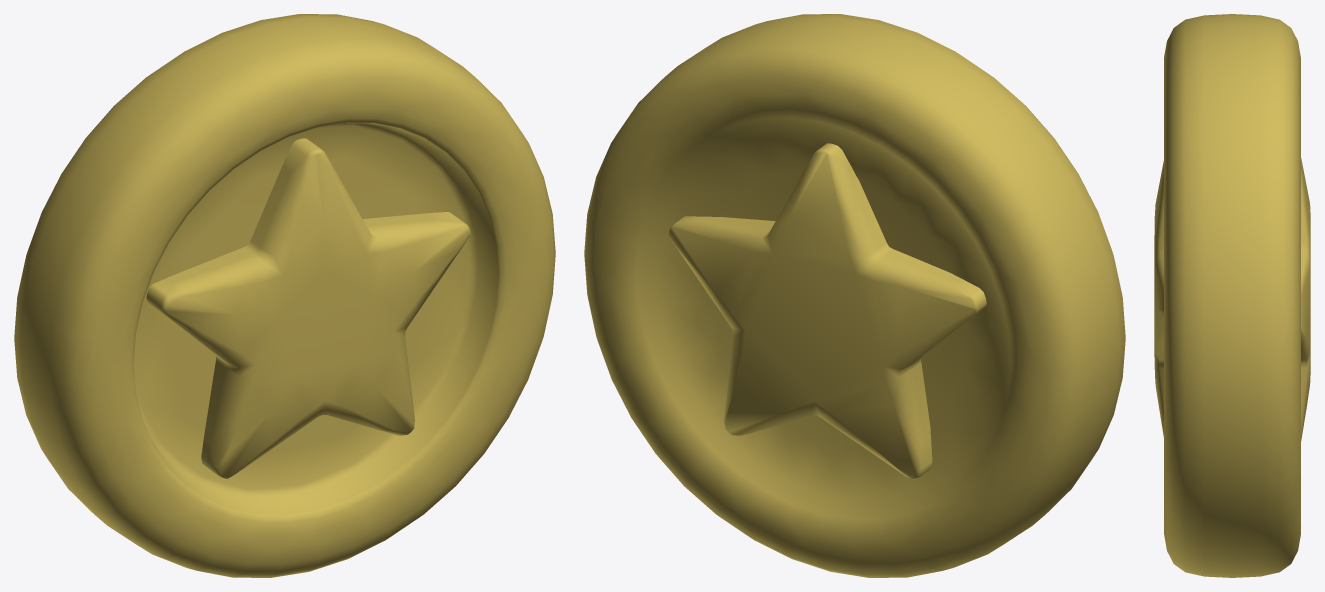
The model's file is con_fbccccc.fbx.
The picture shows the model from 3 angles, left to right: view 1: azimuth 30°, elevation 25°; view 2: azimuth 150°, elevation 25°; view 3: azimuth 270°, elevation 25°; orthographic projection. The views are drawn at different scales.
Parts seen in each view (by area): view 1: Coin_Star; view 2: Coin_Star; view 3: Coin_Star.
Boxes of the visible parts, x1,y1,x2,y2 form: Coin_Star: (14, 14, 555, 577); Coin_Star: (584, 14, 1125, 577); Coin_Star: (1154, 14, 1310, 577).
Bounding box in the file's own units: 0.7238 × 0.7242 × 0.2007.
